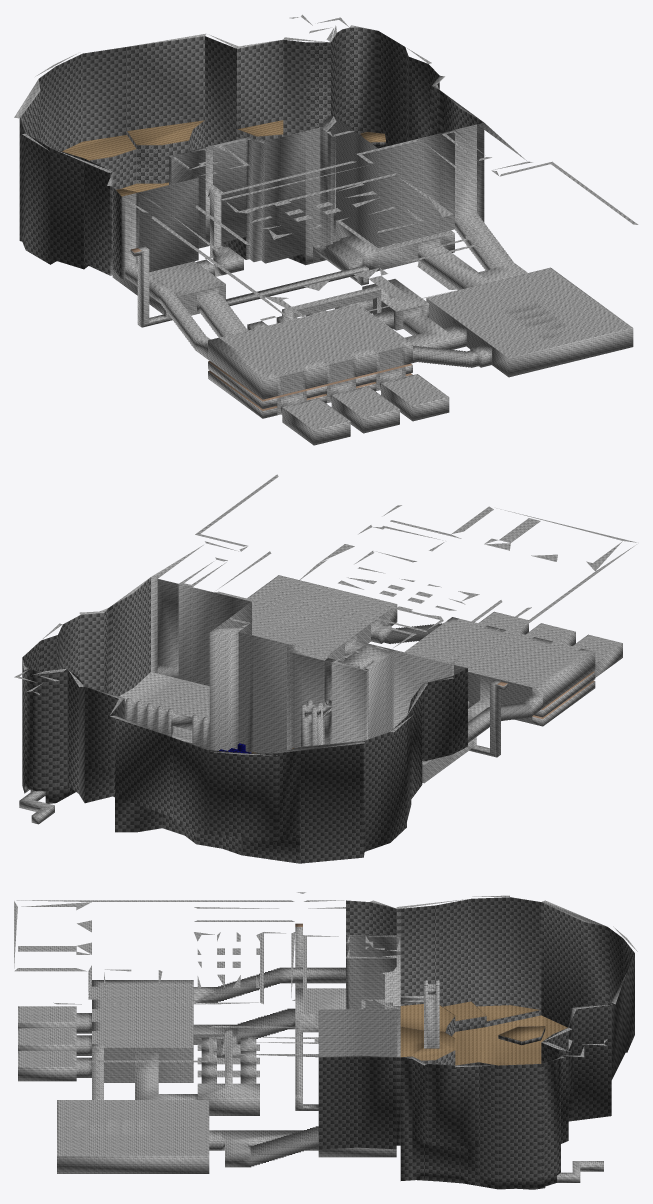
File: M_ThunderCitadel.fbx
The picture shows the model from 3 angles, top to bottom: view 1: azimuth 30°, elevation 25°; view 2: azimuth 150°, elevation 25°; view 3: azimuth 270°, elevation 25°; orthographic projection. The views are drawn at different scales.
Visible parts, largest first — view 1: MAP91; view 2: MAP91; view 3: MAP91.
Part boxes in pixels (x1=…): MAP91: x1=14, y1=14, x2=638, y2=445; MAP91: x1=14, y1=474, x2=636, y2=863; MAP91: x1=14, y1=892, x2=637, y2=1189.
Size of the model in its own units: 10600 by 3650 by 16000.
